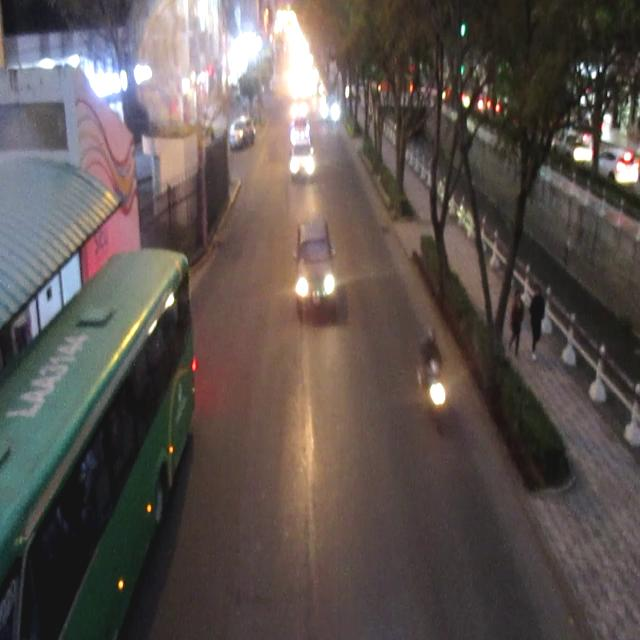BUS: (3, 252, 200, 640)
MOTORCYCLE: (418, 326, 446, 429)
SUV: (294, 222, 332, 316), (231, 120, 256, 150)
